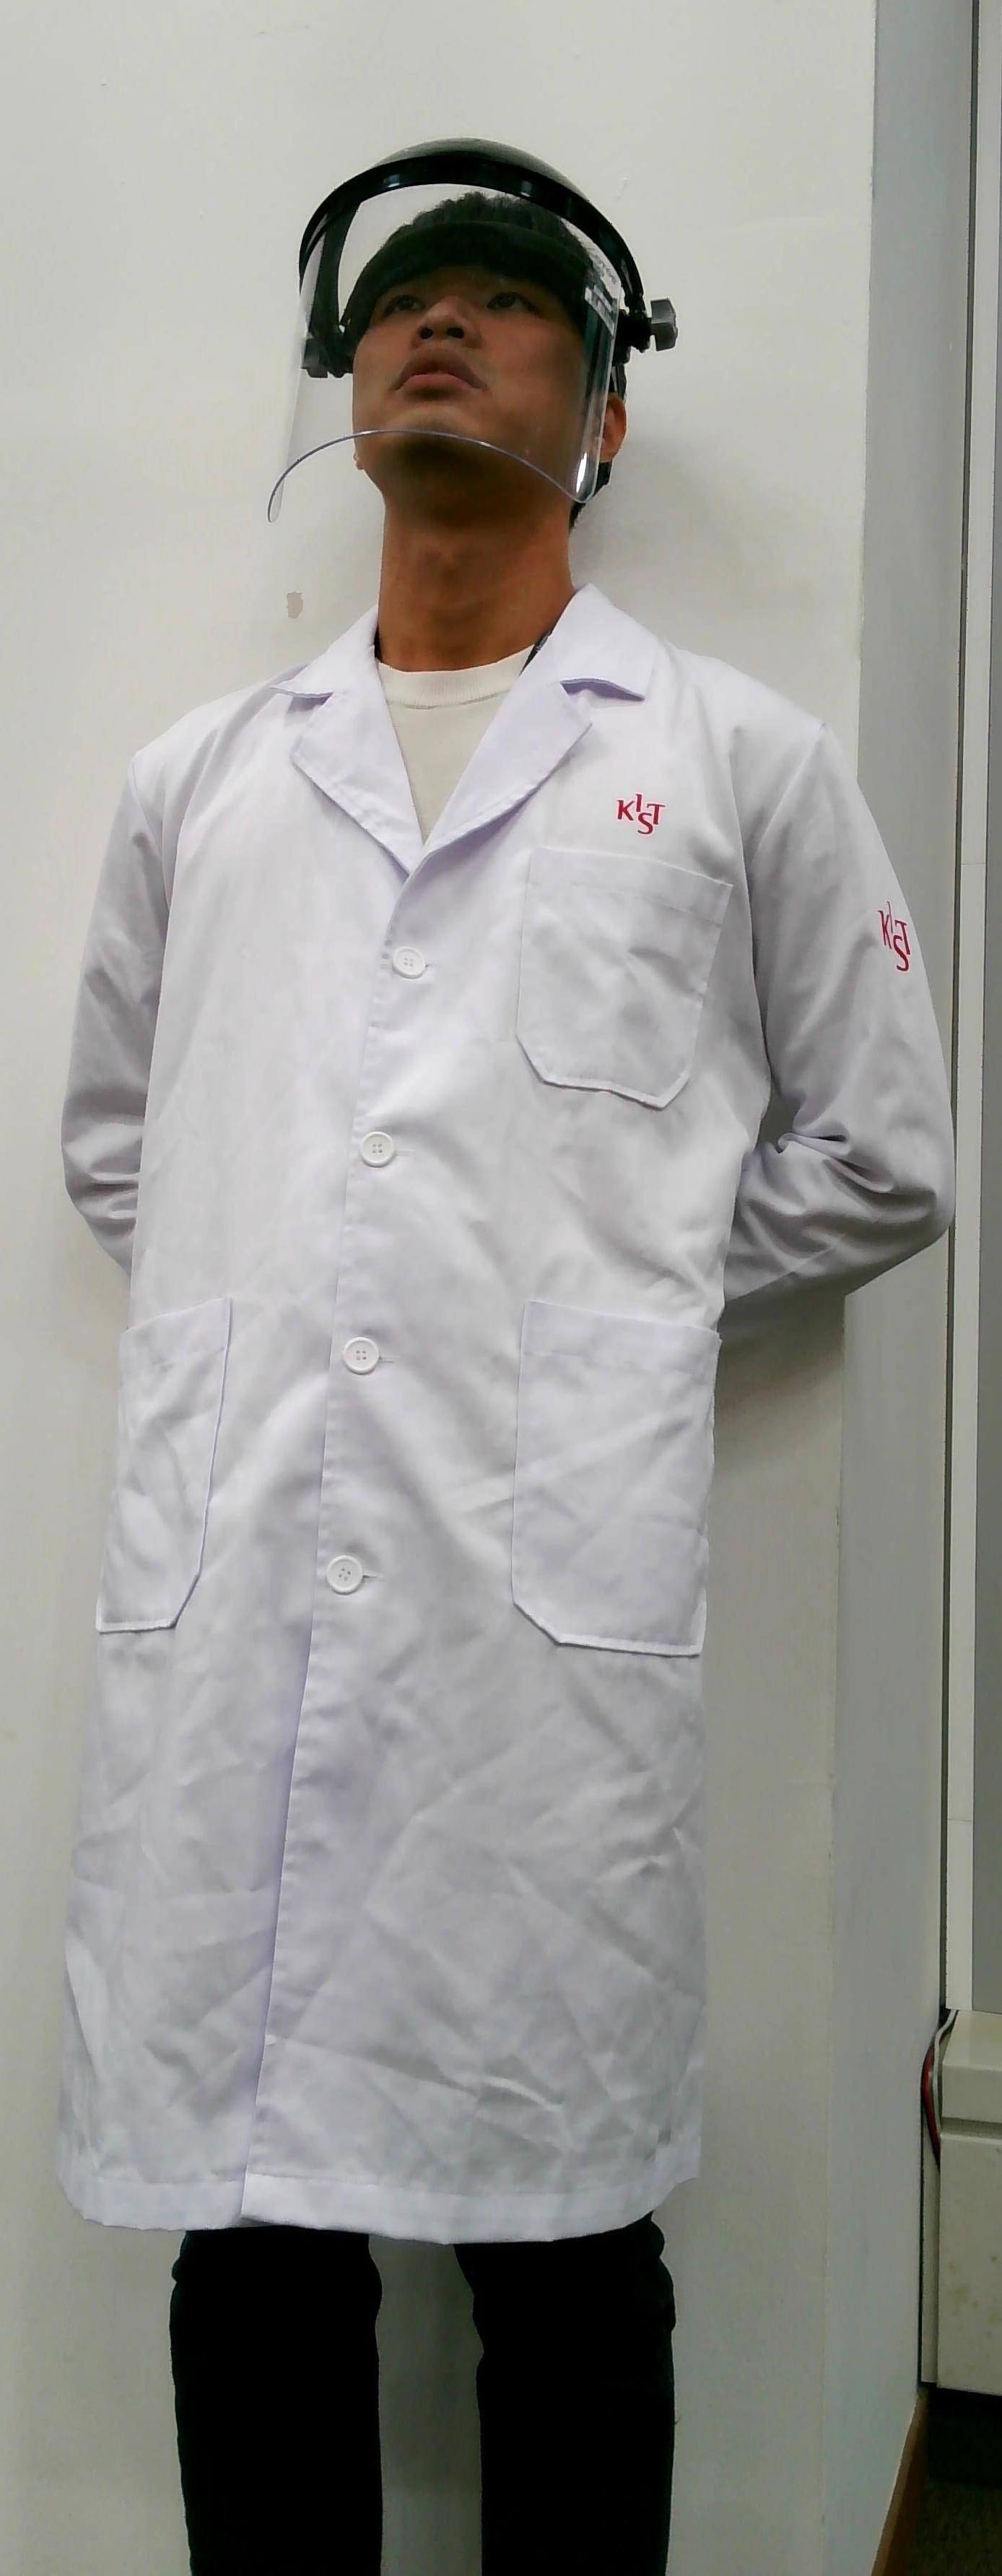lab_coat: (23, 710, 782, 2251)
